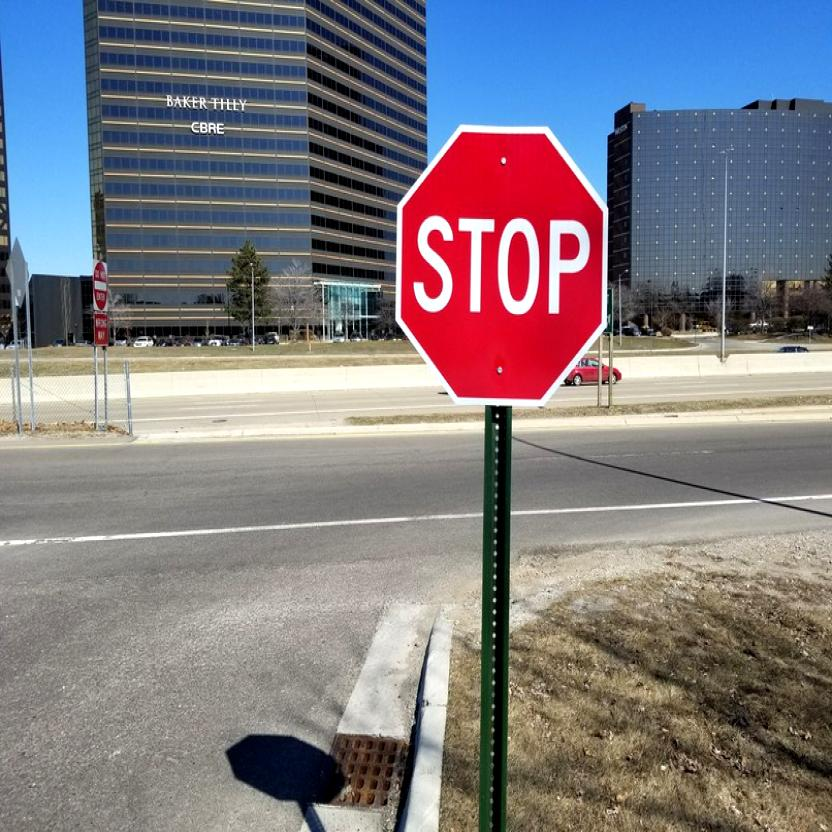Pole: (482, 416, 515, 828), (103, 345, 107, 429), (94, 346, 98, 427)
Sign: (385, 115, 612, 410)
